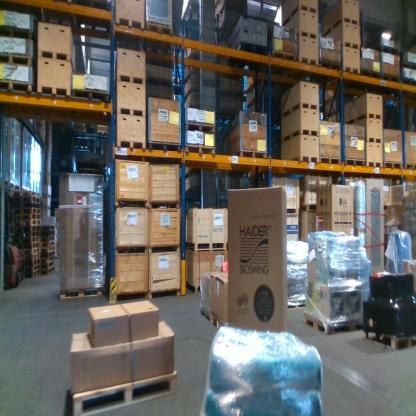pallet: (70, 368, 180, 415), (302, 310, 369, 335), (364, 325, 416, 354), (281, 4, 318, 27), (58, 284, 106, 301), (321, 16, 360, 36), (280, 102, 320, 121), (70, 87, 112, 105), (0, 24, 36, 44), (281, 127, 320, 145), (342, 109, 384, 125), (37, 46, 74, 64), (0, 51, 33, 71), (1, 78, 34, 98), (36, 83, 71, 101), (229, 148, 269, 162), (144, 22, 175, 38), (146, 138, 181, 152), (185, 120, 215, 136), (115, 106, 147, 121), (113, 16, 145, 31), (113, 73, 146, 87), (186, 241, 228, 252), (184, 142, 216, 156), (320, 56, 343, 75), (291, 26, 318, 42), (116, 138, 146, 152), (377, 44, 401, 60), (381, 71, 401, 88), (319, 154, 344, 167), (289, 154, 318, 165), (358, 67, 380, 81), (383, 158, 404, 171), (295, 56, 319, 67), (341, 66, 361, 79), (210, 315, 227, 330), (343, 157, 366, 168), (340, 40, 362, 51), (188, 279, 204, 294), (11, 201, 41, 209), (10, 207, 42, 214), (12, 236, 39, 244), (11, 219, 41, 226), (202, 308, 214, 324), (366, 136, 385, 146), (9, 230, 40, 236), (11, 213, 42, 219), (366, 159, 385, 168), (41, 266, 55, 277), (40, 251, 57, 260), (11, 225, 40, 230), (25, 252, 41, 261), (27, 265, 42, 274), (23, 196, 41, 203), (27, 271, 42, 279), (403, 162, 416, 171), (41, 241, 56, 248), (24, 248, 41, 254), (39, 260, 55, 266), (40, 234, 55, 240), (25, 242, 40, 248), (96, 130, 108, 136), (74, 128, 86, 134), (41, 248, 57, 252), (40, 225, 55, 229), (40, 229, 55, 233), (28, 261, 40, 266), (41, 194, 51, 199), (41, 205, 51, 210), (41, 182, 51, 187), (45, 150, 52, 157), (42, 179, 51, 184), (42, 176, 51, 181), (45, 157, 52, 163), (43, 161, 52, 165), (46, 148, 52, 154), (46, 145, 52, 151), (47, 137, 53, 143), (47, 133, 53, 139), (45, 155, 52, 160), (46, 143, 53, 148), (43, 173, 51, 177), (43, 170, 51, 174), (43, 167, 51, 171), (43, 164, 52, 167), (47, 140, 53, 144)
